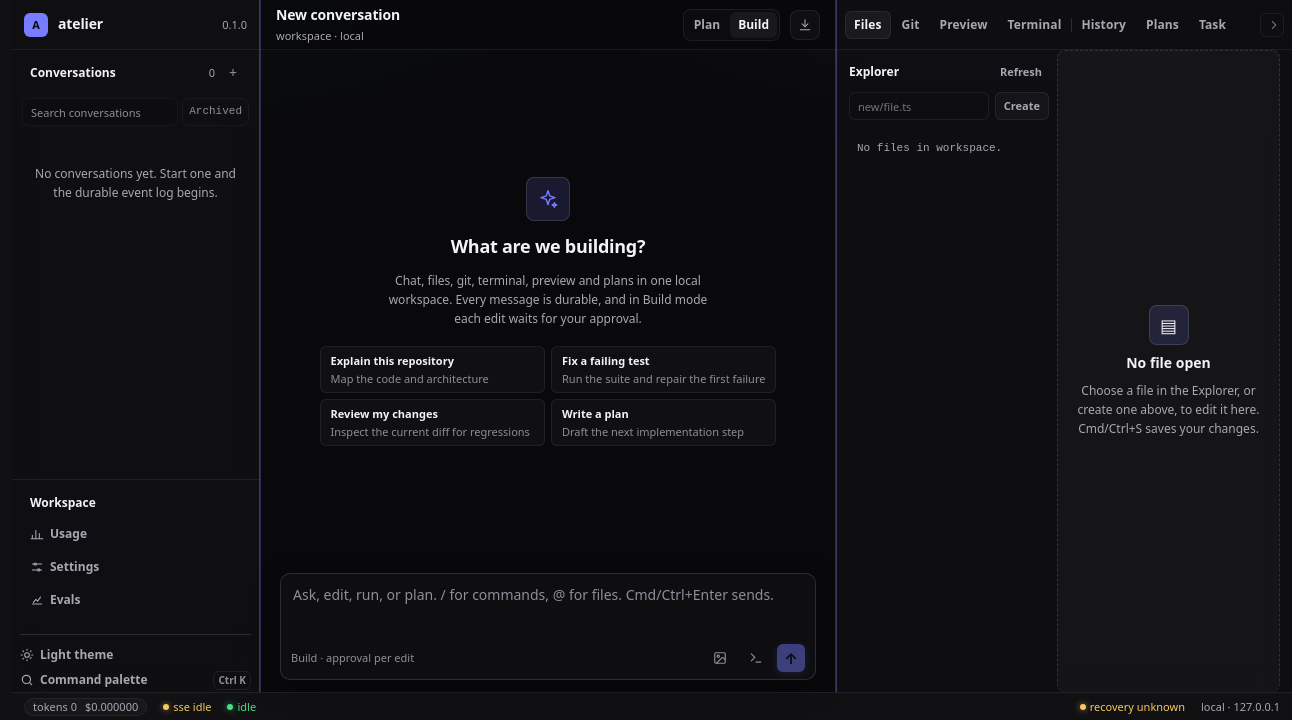
Test: resizable three-pane layout › gives the browser back and forward controls
What coordinates should you click on to do the following:
click the tab with test id "tab-preview"
I would click on:
 (964, 24)
Its box is [930,10,997,38].
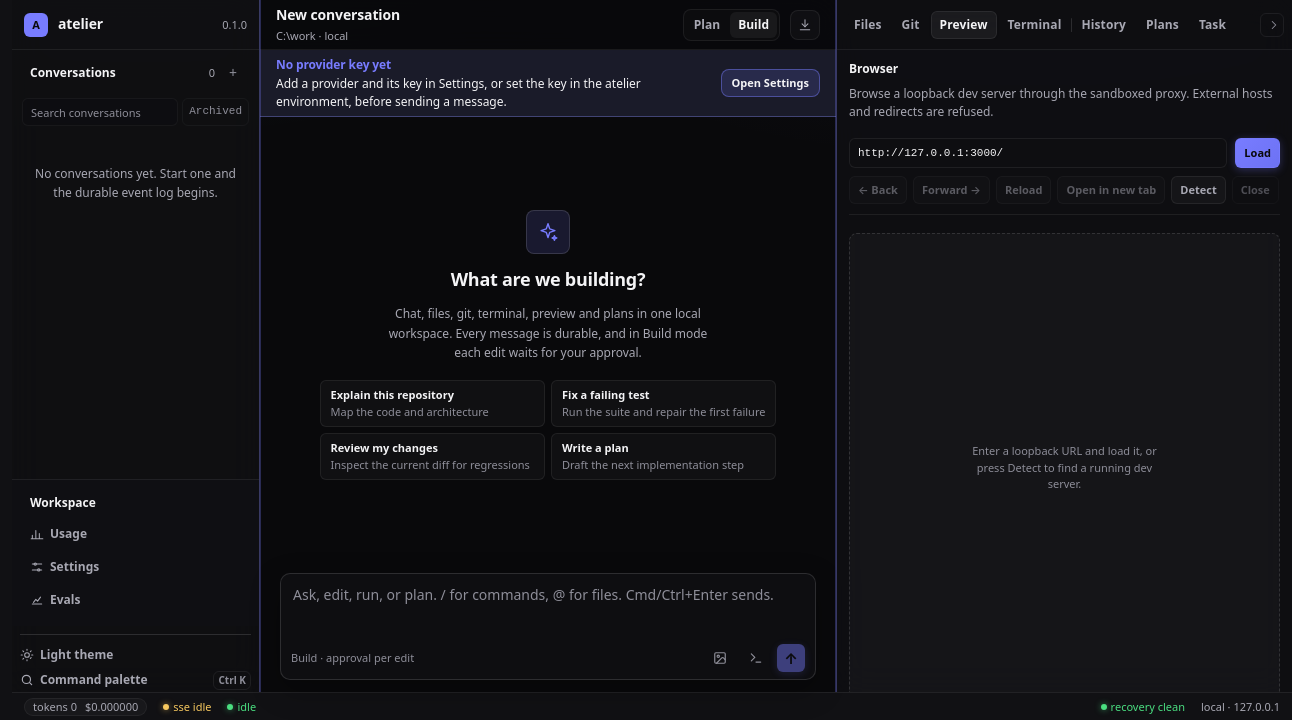
Check: the button with test id "browser-forward" is shown, box [913,176,990,204]
Check: the button with test id "browser-back" is disabled, box [849,176,907,204]
